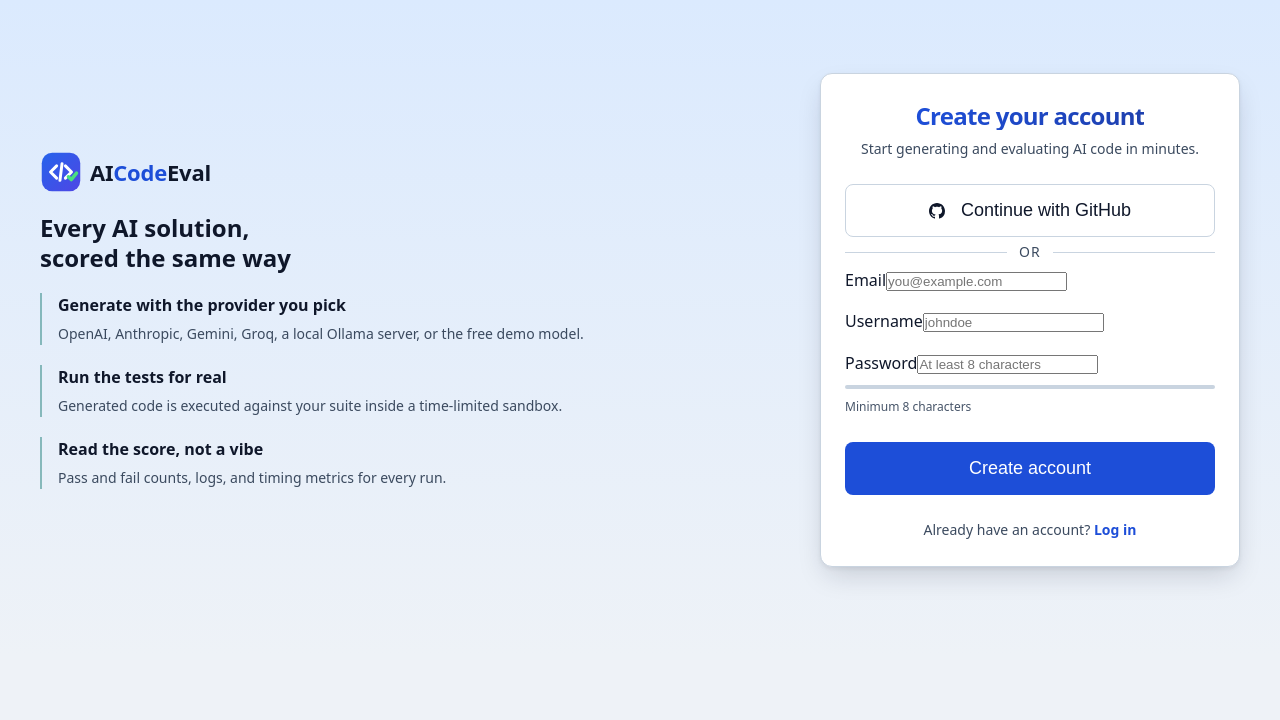
Test: Register › shows per-field validation errors from the server
Type "alice@example.com" into the field labelled "Email" at (977,281), box [886, 272, 1067, 291]
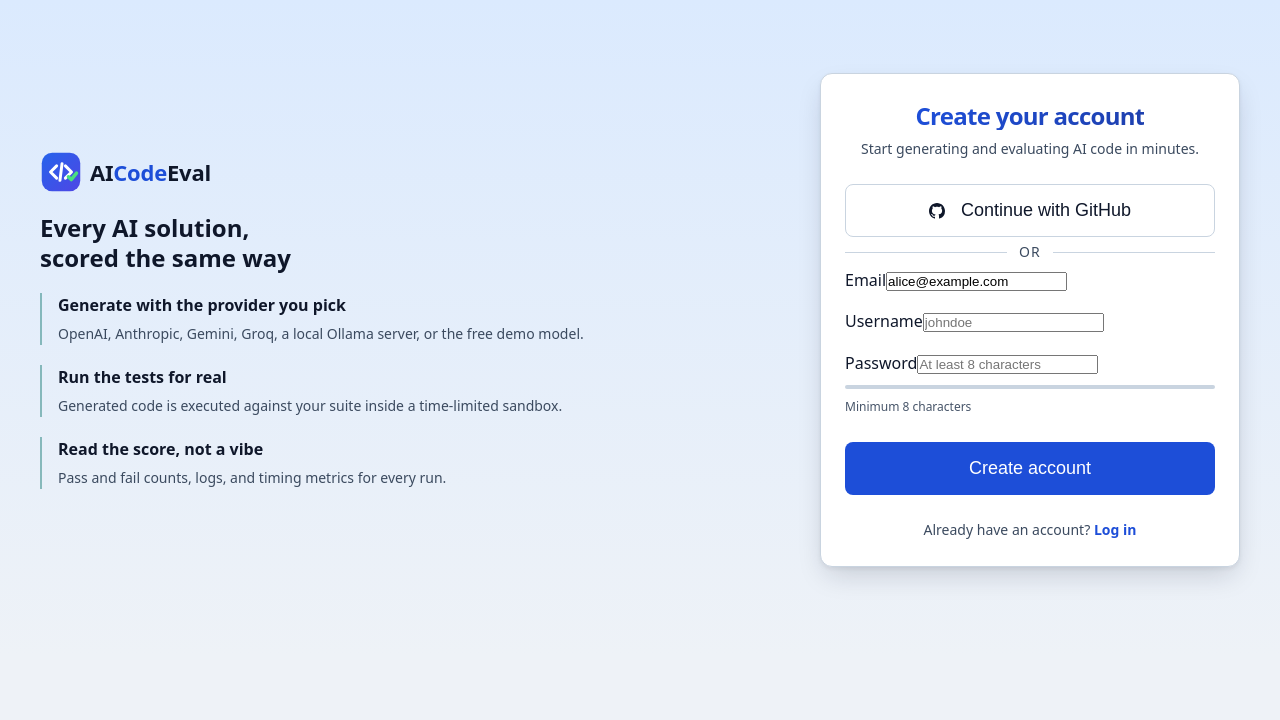
Type "alice" into the field labelled "Username" at (1013,323), box [923, 313, 1104, 332]
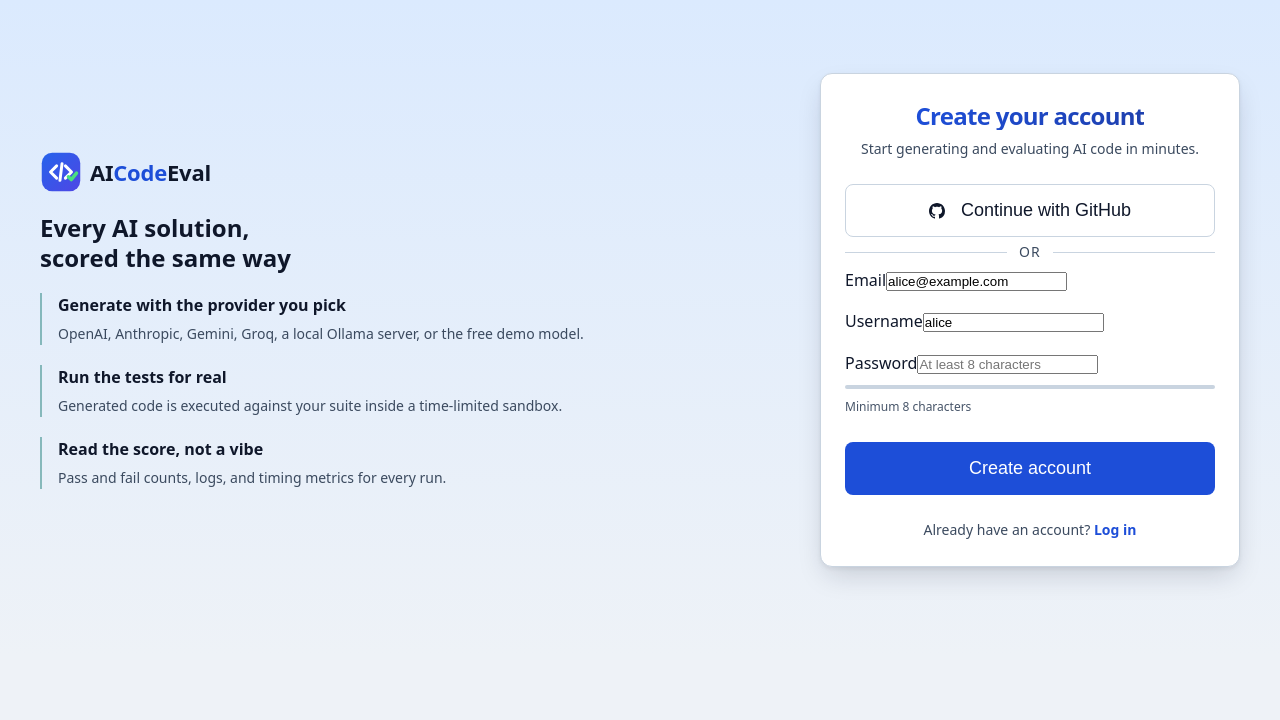
Type "password123" into the password field labelled "Password" at (1008,364), box [917, 355, 1098, 374]
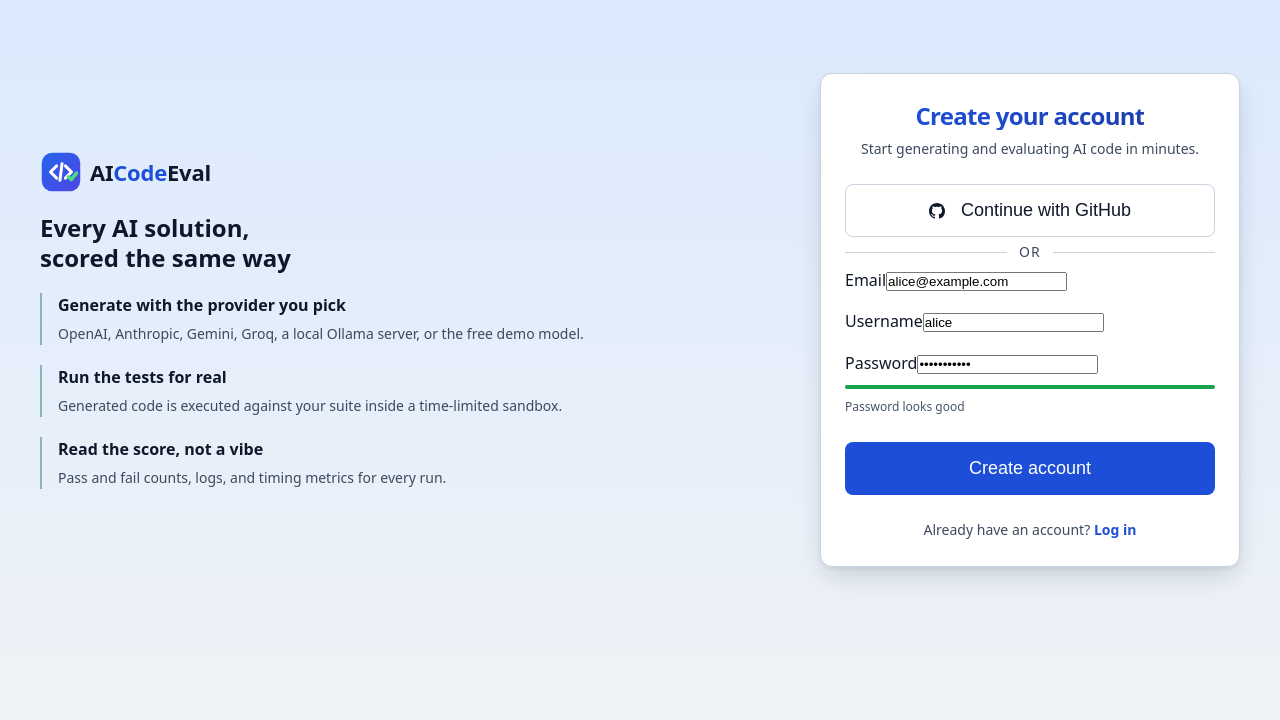
Click the button "Create account" at (1030,469), box [845, 442, 1215, 495]
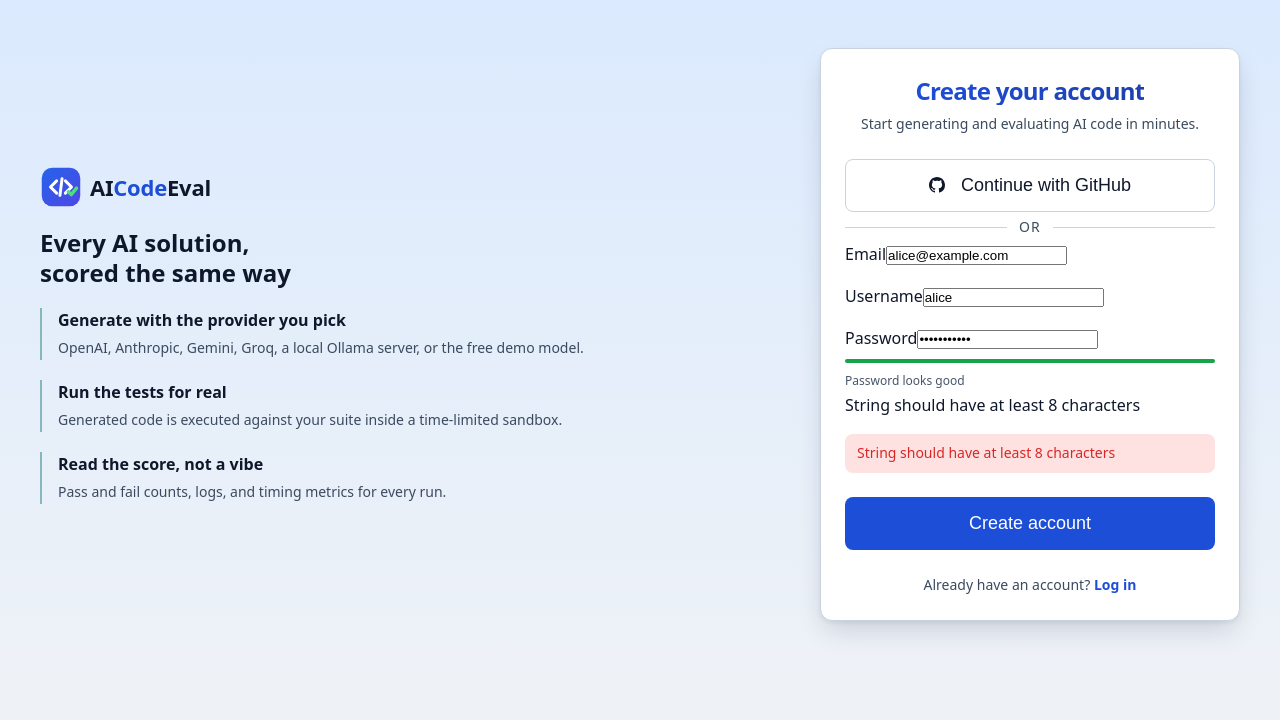
Expected: the message does not show "password:", [845, 434, 1215, 473]
Expected: the message reads "String should have at least 8 characters", [857, 443, 1115, 462]
